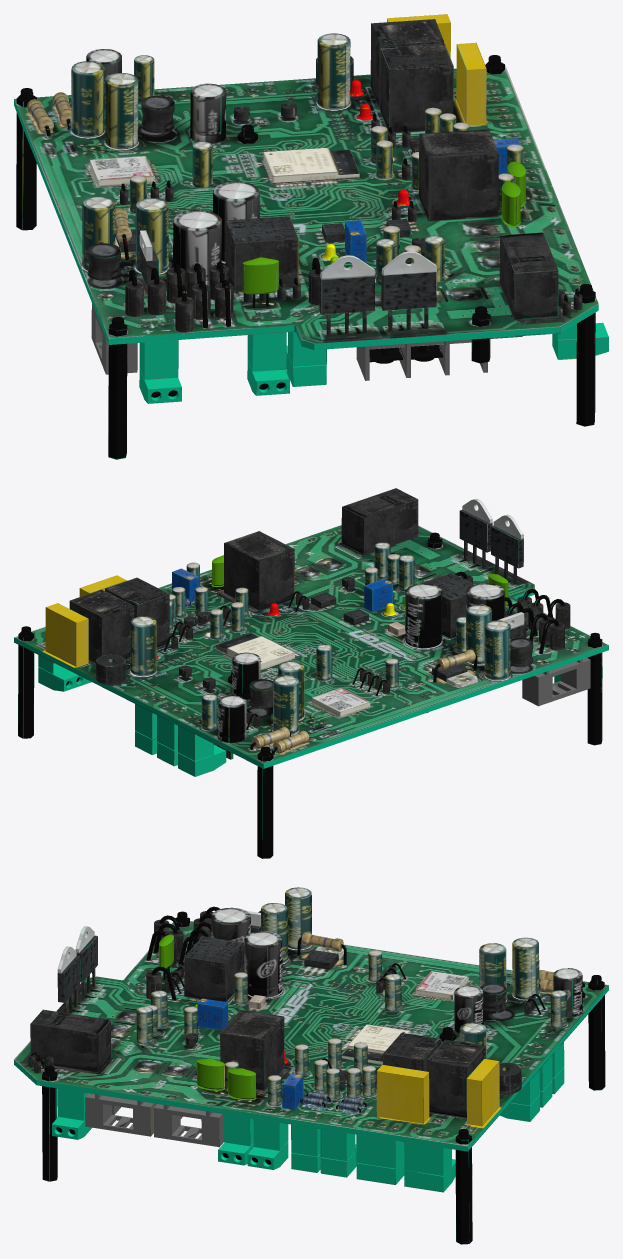
File: MainBoardBaked.fbx
3 renders of one model, top to bottom at view 1: azimuth 30°, elevation 25°; view 2: azimuth 150°, elevation 25°; view 3: azimuth 270°, elevation 25°, orthographic. The views are drawn at different scales.
Parts seen in each view (by area): view 1: Board.low; view 2: Board.low; view 3: Board.low.
Boxes of the visible parts, bbox=[...] form: Board.low: bbox=[14, 14, 608, 459]; Board.low: bbox=[14, 488, 608, 858]; Board.low: bbox=[14, 887, 608, 1244].
Size of the model in its own units: 18.75 by 6.32 by 20.64.
1 material, 1 textured.
